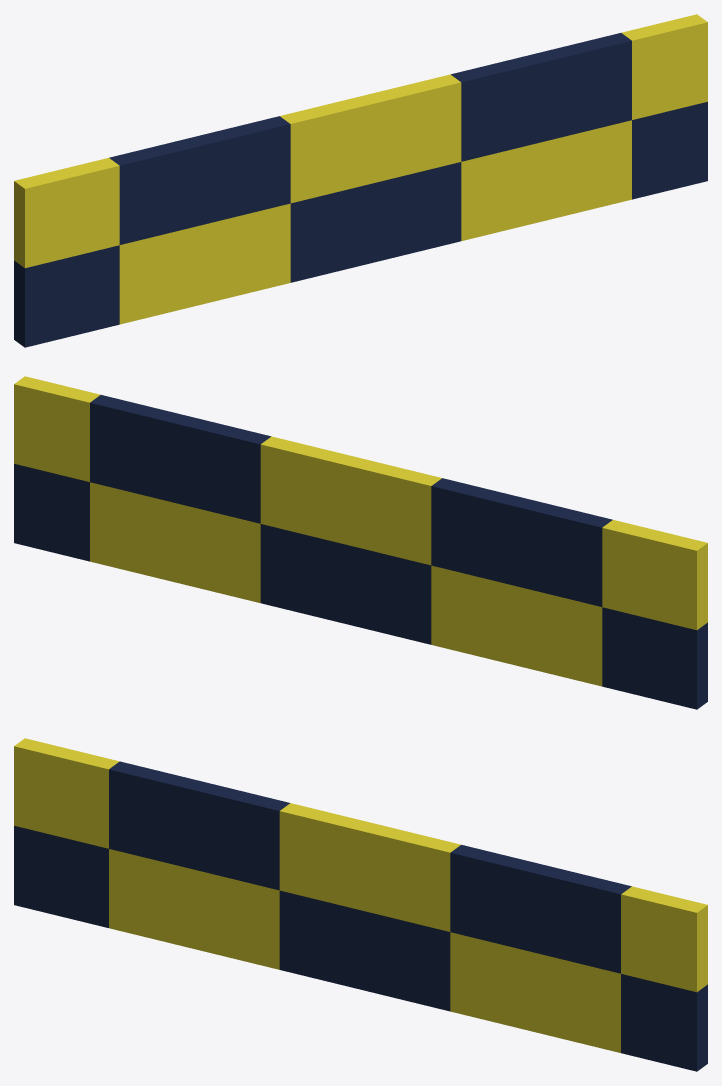
Rendered from riot_van_door_markings.glb.
3 views of the same model, one above another, from view 1: azimuth 30°, elevation 25°; view 2: azimuth 150°, elevation 25°; view 3: azimuth 330°, elevation 25° (orthographic).
Visible parts, largest first — view 1: body:compound; view 2: body:compound; view 3: body:compound.
Boxes of the visible parts, left/top/right/bottom form: body:compound: left=14, top=14, right=707, bottom=347; body:compound: left=14, top=376, right=707, bottom=709; body:compound: left=14, top=738, right=707, bottom=1071.
Bounding box in the file's own units: 1.12 × 0.25 × 0.0312.
